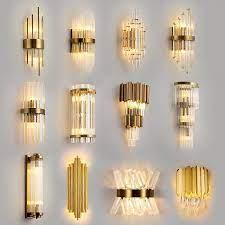Lamp: (106, 161, 164, 219), (164, 79, 204, 152), (15, 4, 54, 75), (61, 81, 101, 149), (115, 78, 150, 149), (15, 77, 49, 149), (114, 5, 150, 71), (167, 5, 203, 71), (66, 6, 100, 75), (173, 161, 213, 216), (64, 154, 94, 224), (20, 154, 50, 221)
